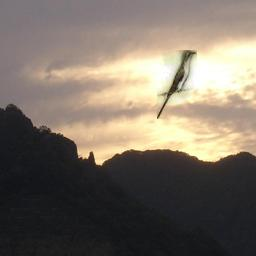Cuckoo: (157, 50, 197, 119)
